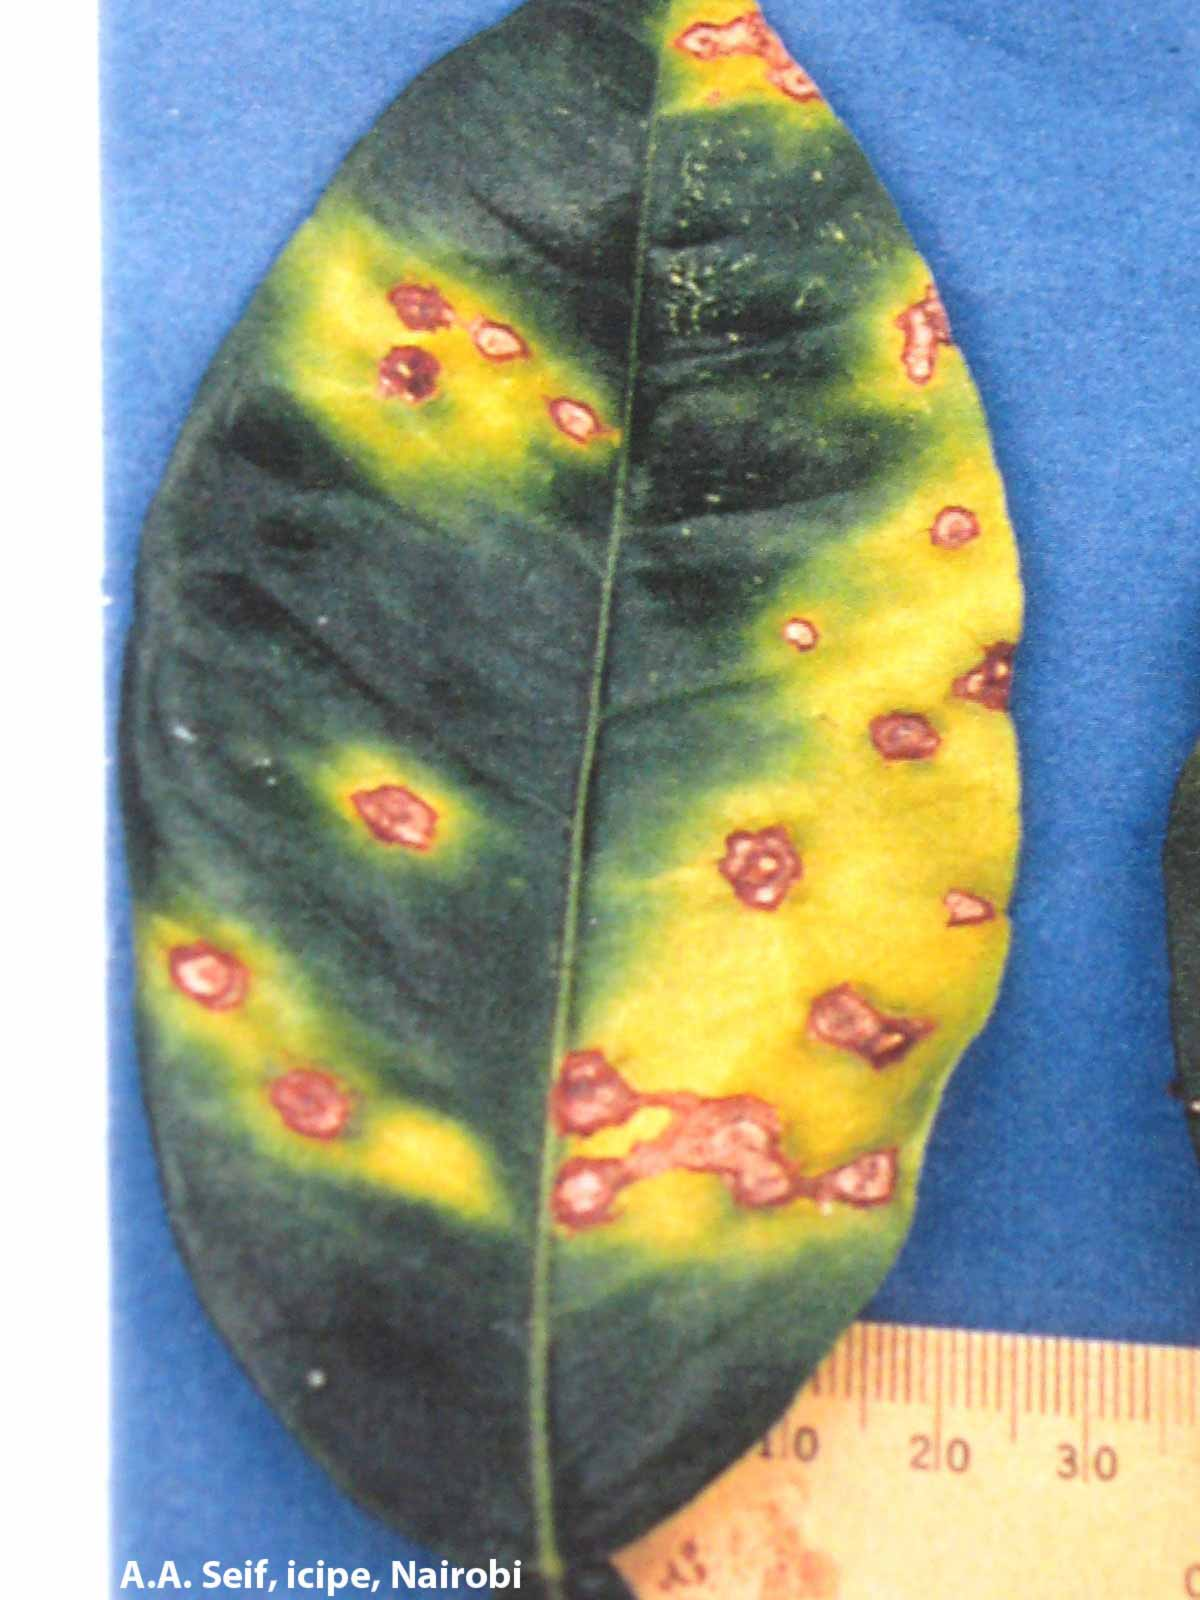unhealthy: (203, 60, 1053, 1527)
